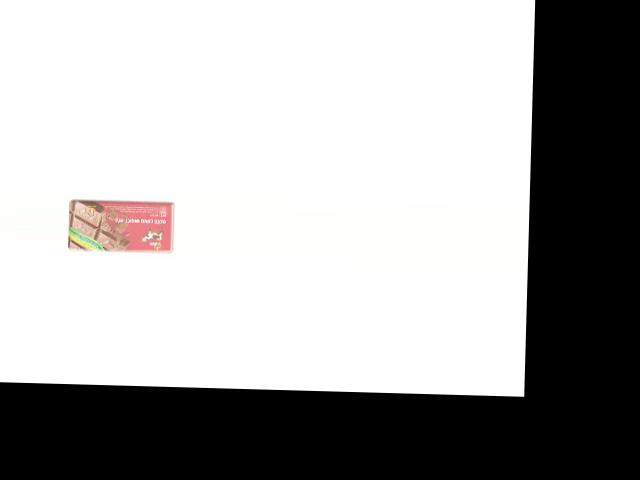chocolate: (67, 196, 176, 254)
